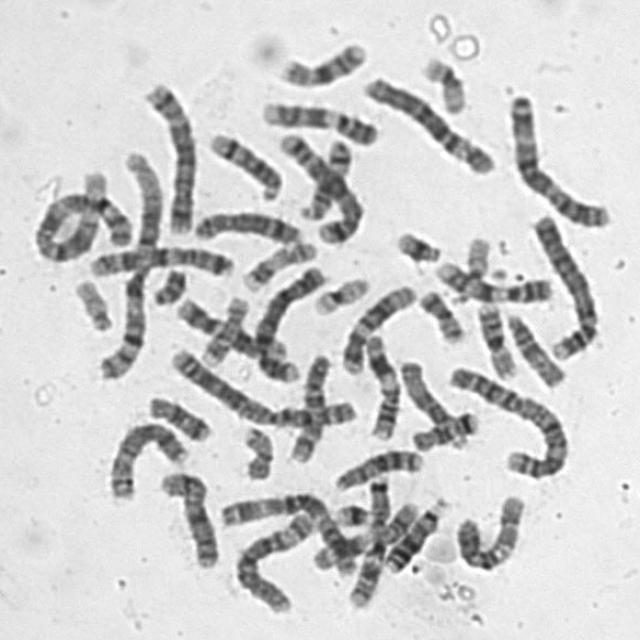A1: (91, 144, 168, 382), (25, 173, 136, 264)
A2: (161, 341, 357, 430), (439, 358, 571, 480)
A3: (499, 83, 614, 229), (210, 484, 362, 577)
B4: (524, 206, 602, 362), (245, 258, 331, 386)
B5: (270, 125, 365, 246), (135, 74, 199, 238)
C10: (448, 487, 530, 573), (282, 346, 333, 465)
C11: (303, 495, 422, 573), (357, 326, 402, 442)
C12: (170, 292, 294, 362), (333, 276, 419, 376)
C6: (354, 66, 501, 177), (226, 505, 319, 615)
C7: (342, 466, 394, 610), (81, 237, 238, 281)
C8: (100, 413, 192, 504), (186, 201, 306, 247)
C9: (428, 252, 556, 306), (254, 93, 382, 147)
D13: (376, 489, 451, 575), (327, 440, 426, 493)
D14: (200, 124, 284, 204), (294, 131, 355, 223)
D15: (392, 352, 473, 451), (498, 304, 568, 388)
E16: (270, 32, 370, 89), (469, 294, 519, 380)
E17: (235, 232, 320, 293), (194, 290, 252, 368)
E18: (139, 388, 214, 443), (404, 402, 481, 453)
F19: (412, 48, 469, 116), (307, 270, 371, 316)
F20: (411, 281, 467, 345), (235, 418, 277, 482)
G21: (388, 222, 445, 265), (326, 495, 374, 528)
G22: (442, 229, 493, 305), (66, 270, 116, 334)
X: (152, 461, 222, 571)
Y: (143, 260, 190, 307)
